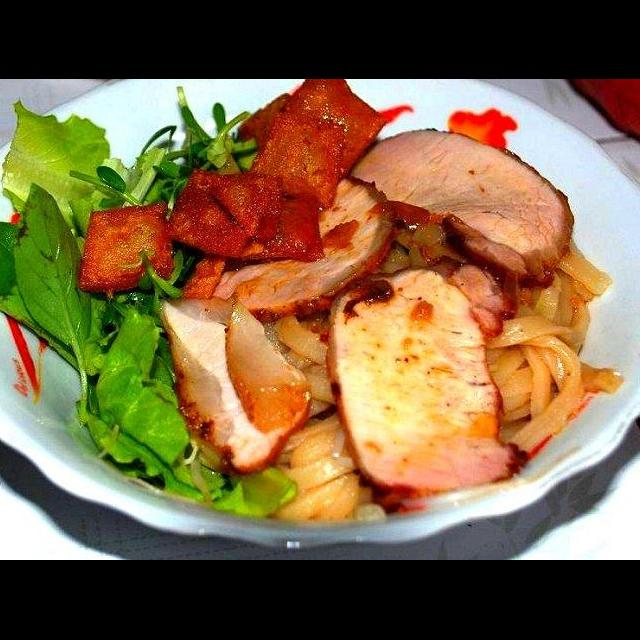banh da: (234, 80, 388, 212), (160, 165, 330, 268), (72, 198, 178, 302)
mi: (476, 234, 626, 476), (256, 306, 376, 530), (366, 217, 470, 290)
thit heo: (320, 262, 534, 520), (340, 124, 578, 294), (152, 290, 316, 480), (206, 172, 400, 322)
